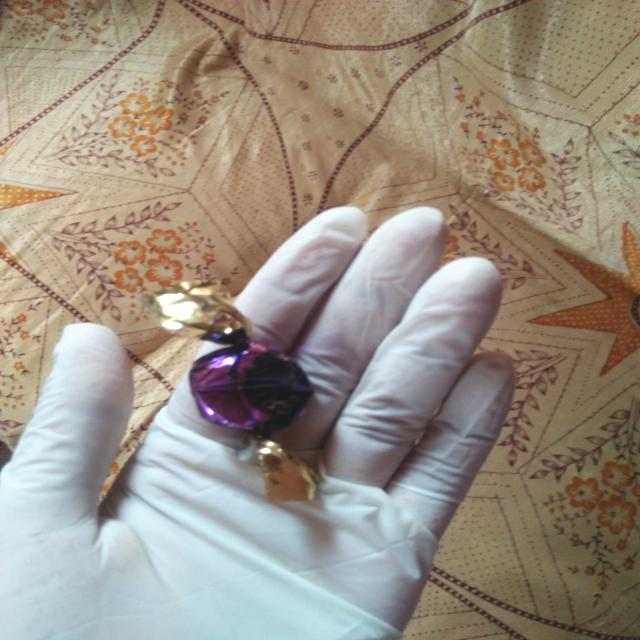glove: (6, 205, 516, 640)
